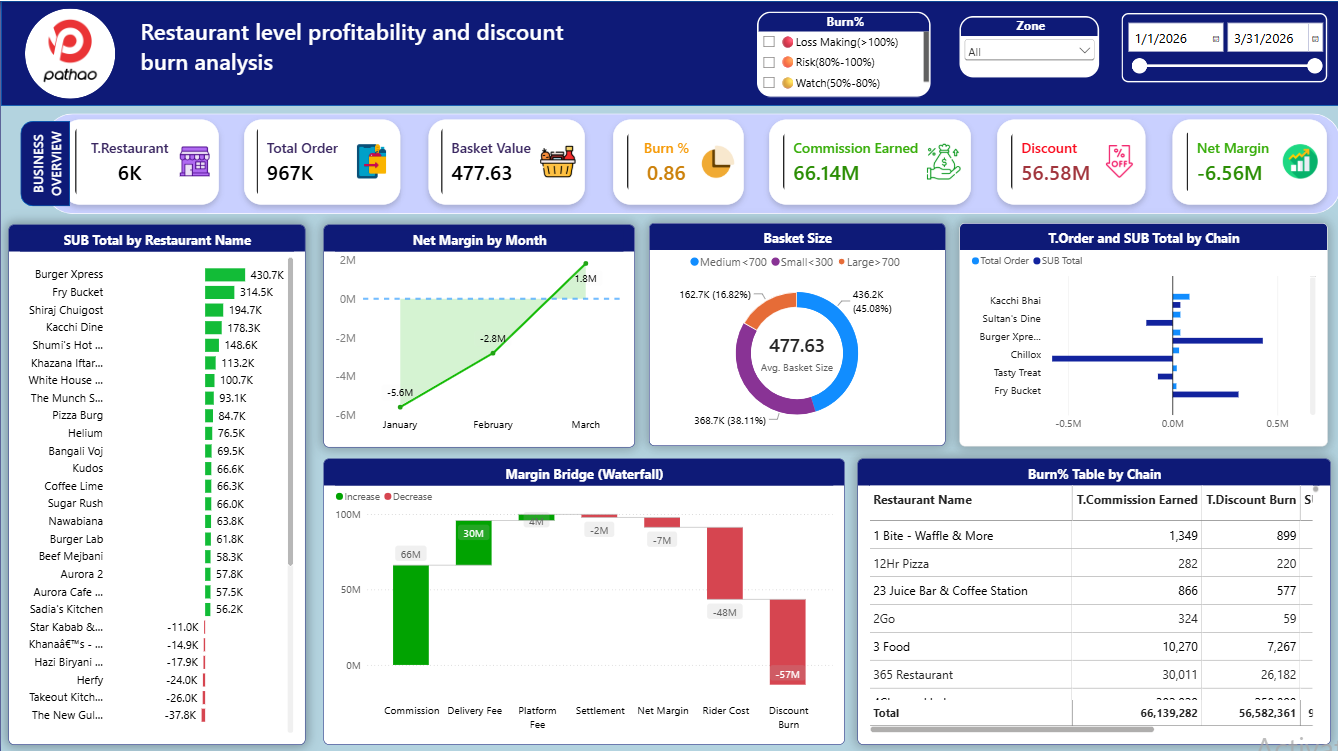

What the dashboard file says about the page in this screenshot:
{"tool":"powerbi","page":{"name":"Profitability & Burn","canvas":[1920,1080],"ordinal":0},"visuals":[{"type":"shape","box":[34.2,9.8,129.3,129.3],"z":0,"group":"g1"},{"type":"clusteredBarChart","title":"SUB Total by Restaurant Name","fields":{"Category":["RAW DATA.Restaurant Name"],"Y":["All Measures.SUB Total"]},"box":[11.3,320.3,425.2,745.5],"z":0},{"type":"image","box":[48.7,13.8,99.1,112.9],"z":1000,"group":"g1"},{"type":"lineChart","title":"Net Margin by Month","fields":{"Category":["RAW DATA.DeliveryDate.Variation.Date Hierarchy.Month"],"Y":["All Measures.Net Margin"]},"box":[461.1,319.6,446.3,319.5],"z":1000},{"type":"shape","box":[0,0,1920,150],"z":2000},{"type":"group","id":"g1","title":"Group 1","box":[34.2,9.8,129.3,129.3],"z":3000},{"type":"textbox","box":[200.1,22,617.3,104.9],"z":4000},{"type":"slicer","fields":{"Values":["RAW DATA.Date"]},"box":[1604.4,17,294.8,99.2],"z":5000},{"type":"shape","box":[63.3,161,1856.7,143.9],"z":6000},{"type":"cardVisual","fields":{"Data":["All Measures.Net Margin"]},"box":[1678.3,170,221.1,121.9],"z":7000},{"type":"cardVisual","fields":{"Data":["All Measures.T.Discount Burn"]},"box":[1425.8,170.1,212.6,121.9],"z":8000},{"type":"cardVisual","fields":{"Data":["All Measures.T.Commission Earned"]},"box":[1100,170,289.1,121.9],"z":9000},{"type":"cardVisual","fields":{"Data":["All Measures.Burn %"]},"box":[875.9,170.1,187.1,121.9],"z":10000},{"type":"cardVisual","fields":{"Data":["All Measures.T.Restaurant Onboard"]},"box":[88.6,170,223.9,121.9],"z":11000},{"type":"cardVisual","fields":{"Data":["All Measures.Total Order"]},"box":[348.7,170.1,223.9,121.9],"z":12000},{"type":"cardVisual","fields":{"Data":["All Measures.Avg. Basket Size"]},"box":[612.3,170.1,223.9,121.9],"z":13000},{"type":"shape","box":[29,172,71,122],"z":14000},{"type":"donutChart","title":"Basket Size","fields":{"Category":["RAW DATA.BasketSize"],"Y":["CountNonNull(RAW DATA.BasketSize)"]},"box":[927.1,317.2,424.5,319.6],"z":15000},{"type":"clusteredBarChart","title":"T.Order and SUB Total by Chain","fields":{"Category":["RAW DATA.Restaurant Name"],"Y":["All Measures.Total Order","All Measures.SUB Total"]},"box":[1373.6,317.2,527.5,320],"z":16000},{"type":"waterfallChart","title":"Margin Bridge (Waterfall)","fields":{"Category":["GM Waterfall.Component"],"Y":["All Measures.Waterfall Value"]},"box":[461.1,656.3,746.6,409.9],"z":17000},{"type":"tableEx","title":"Burn% Table by Chain","fields":{"Values":["RAW DATA.Restaurant Name","All Measures.T.Commission Earned","All Measures.T.Discount Burn","All Measures.SUB Total","All Measures.Net Margin","All Measures.Burn %","All Measures.Total Order"]},"box":[1227.2,656.3,678.3,409.9],"z":18000},{"type":"slicer","title":"Burn%","fields":{"Values":["Burn Category Table.Category"]},"box":[1083.3,14.6,248.9,122],"z":19000},{"type":"slicer","title":"Zone","fields":{"Values":["RAW DATA.Zone"]},"box":[1373.6,22,200.1,87.8],"z":20000}]}

Visuals, with their boxes in screenshot pixels (x1, y1, x2, y2), scaled from the page's 1920x1080 canvas onto the 1338x751 screenshot:
shape: detection(24, 7, 114, 97)
"SUB Total by Restaurant Name" clusteredBarChart: detection(8, 223, 304, 741)
image: detection(34, 10, 103, 88)
"Net Margin by Month" lineChart: detection(321, 222, 632, 444)
shape: detection(0, 0, 1337, 104)
"Group 1" group: detection(24, 7, 114, 97)
textbox: detection(139, 15, 570, 88)
slicer - RAW DATA.Date: detection(1118, 12, 1324, 81)
shape: detection(44, 112, 1337, 212)
cardVisual - All Measures.Net Margin: detection(1170, 118, 1324, 203)
cardVisual - All Measures.T.Discount Burn: detection(994, 118, 1142, 203)
cardVisual - All Measures.T.Commission Earned: detection(767, 118, 968, 203)
cardVisual - All Measures.Burn %: detection(610, 118, 741, 203)
cardVisual - All Measures.T.Restaurant Onboard: detection(62, 118, 218, 203)
cardVisual - All Measures.Total Order: detection(243, 118, 399, 203)
cardVisual - All Measures.Avg. Basket Size: detection(427, 118, 583, 203)
shape: detection(20, 120, 70, 204)
"Basket Size" donutChart: detection(646, 221, 942, 443)
"T.Order and SUB Total by Chain" clusteredBarChart: detection(957, 221, 1325, 443)
"Margin Bridge (Waterfall)" waterfallChart: detection(321, 456, 842, 741)
"Burn% Table by Chain" tableEx: detection(855, 456, 1328, 741)
"Burn%" slicer: detection(755, 10, 928, 95)
"Zone" slicer: detection(957, 15, 1097, 76)
